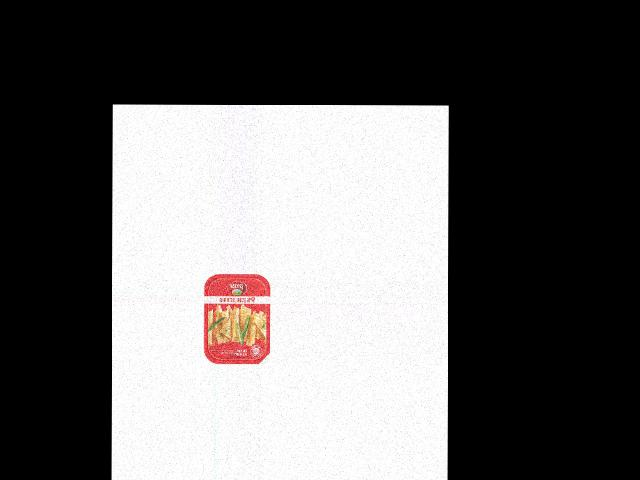cheese: (203, 273, 270, 364)
